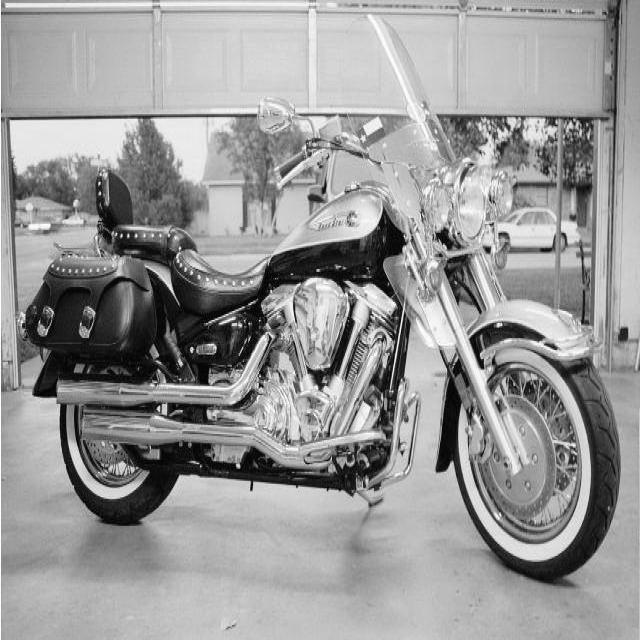Motorcycle: (24, 17, 622, 581)
